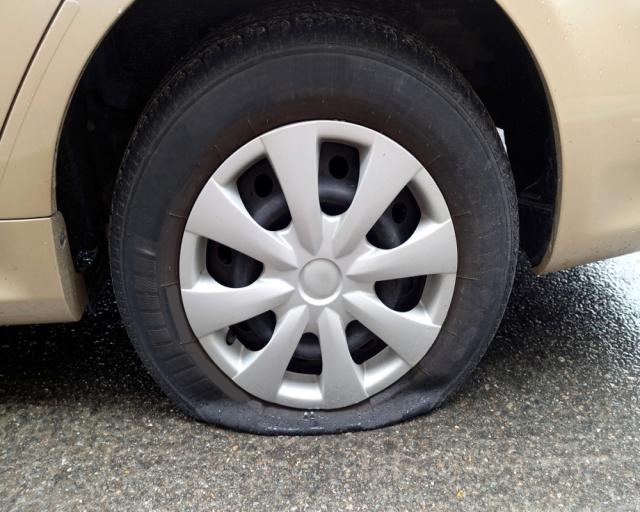tire flat: (108, 0, 522, 435)
